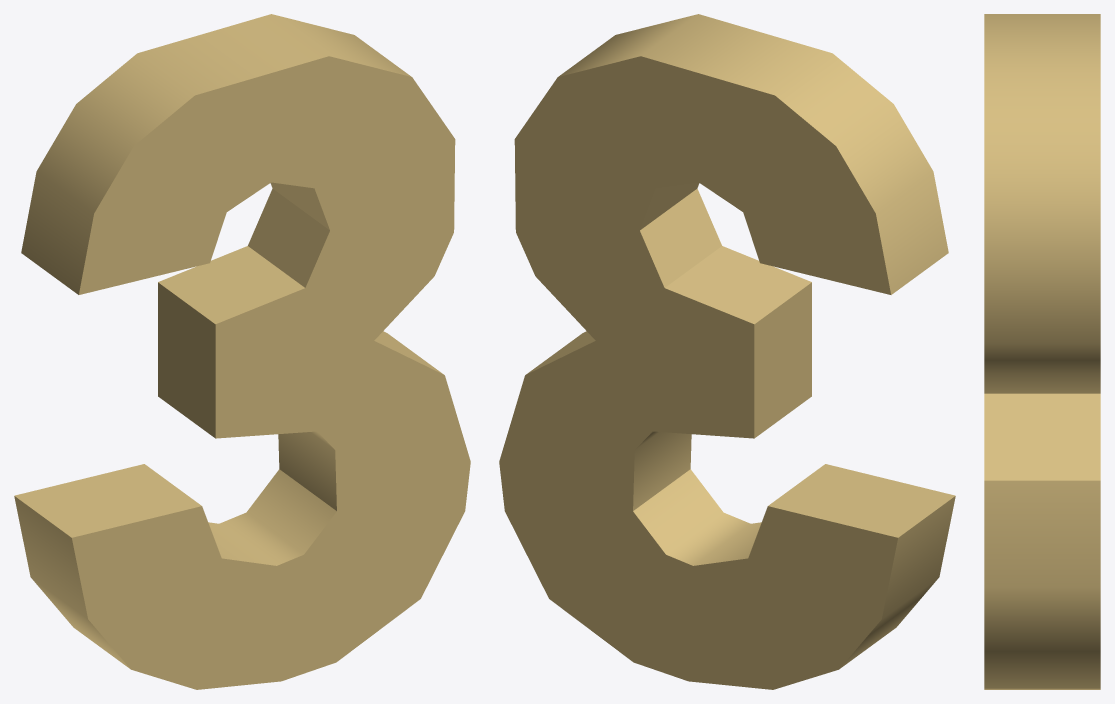
Rendered from kr_num_3.glb.
The picture shows the model from 3 angles, left to right: view 1: azimuth 30°, elevation 25°; view 2: azimuth 150°, elevation 25°; view 3: azimuth 270°, elevation 25°; orthographic projection.
Visible parts, largest first — view 1: vc_m8_r2; view 2: vc_m8_r2; view 3: vc_m8_r2.
Boxes of the visible parts, x1,y1,x2,y2 form: vc_m8_r2: [14, 14, 470, 689]; vc_m8_r2: [499, 14, 955, 689]; vc_m8_r2: [984, 14, 1100, 689].
Bounding box in the file's own units: 0.2399 × 0.3525 × 0.06.
